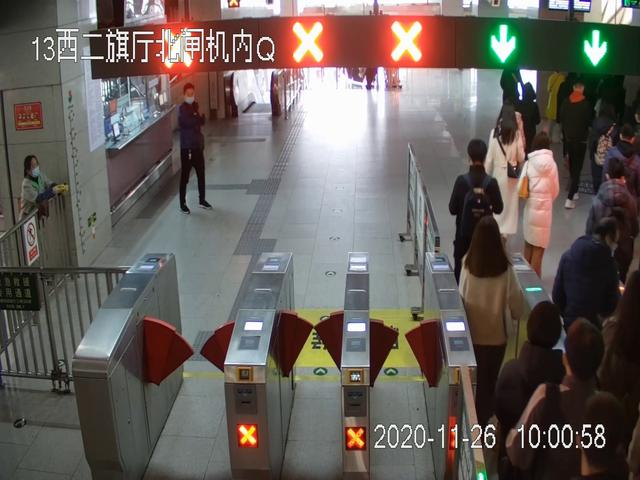person: (502, 320, 640, 480), (499, 301, 595, 480), (459, 216, 525, 400), (449, 139, 504, 302), (586, 157, 640, 285), (518, 131, 560, 293), (485, 104, 525, 252), (178, 82, 216, 213), (20, 154, 56, 265), (563, 78, 588, 209)
